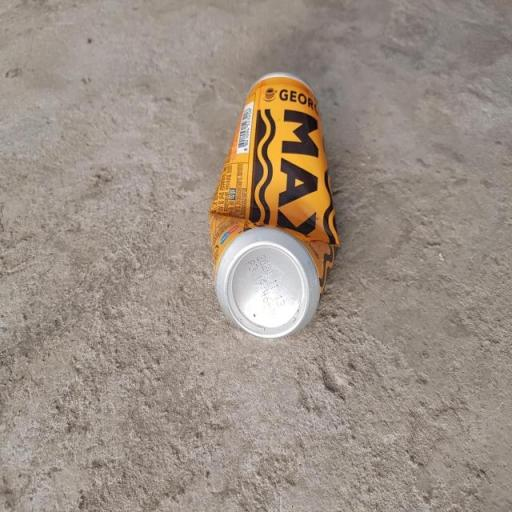metal: (190, 58, 355, 348)
